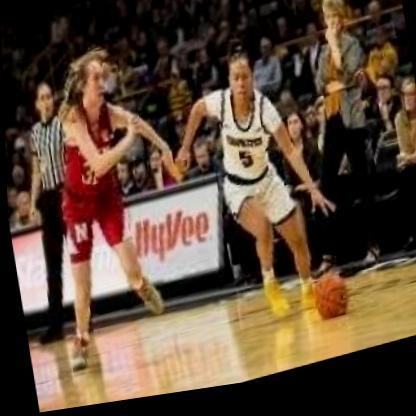basketball: (306, 277, 350, 334)
